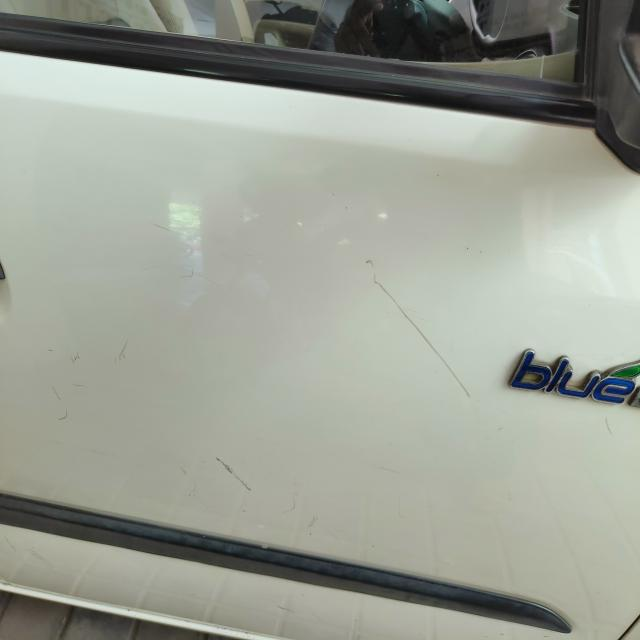scratch: (362, 255, 478, 403), (38, 332, 134, 425), (204, 448, 258, 503)
